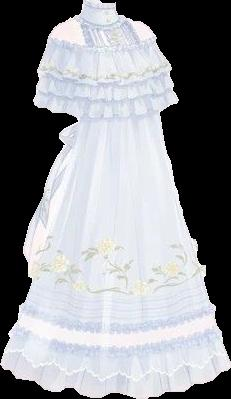Bodice: (33, 0, 178, 119)
Hemline: (0, 362, 230, 398)
Neckline: (78, 16, 143, 45), (49, 35, 155, 49), (78, 15, 121, 28), (81, 0, 115, 10)
Skirt: (1, 112, 230, 398)
Waistline: (32, 68, 172, 101), (33, 100, 177, 122)
